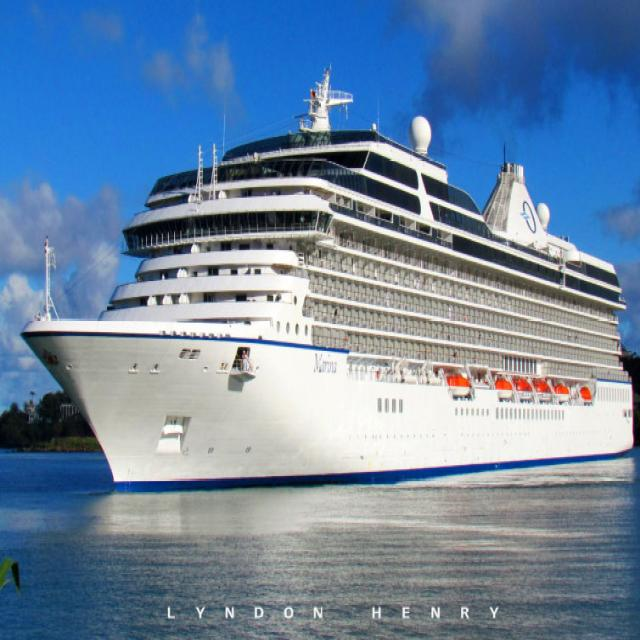cruises: (17, 64, 640, 500)
